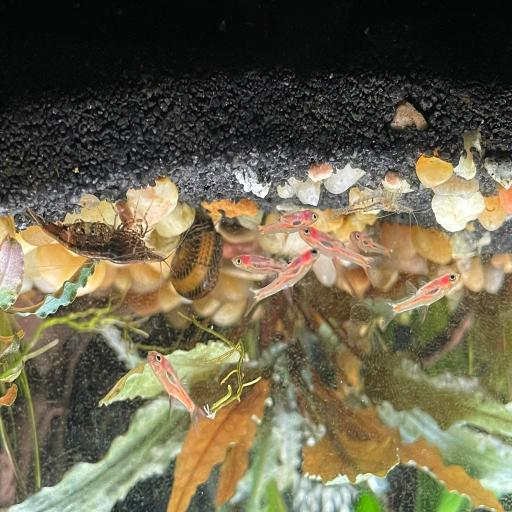Shrimp: (27, 200, 174, 286), (338, 181, 428, 233)
Snail: (170, 225, 225, 301)
